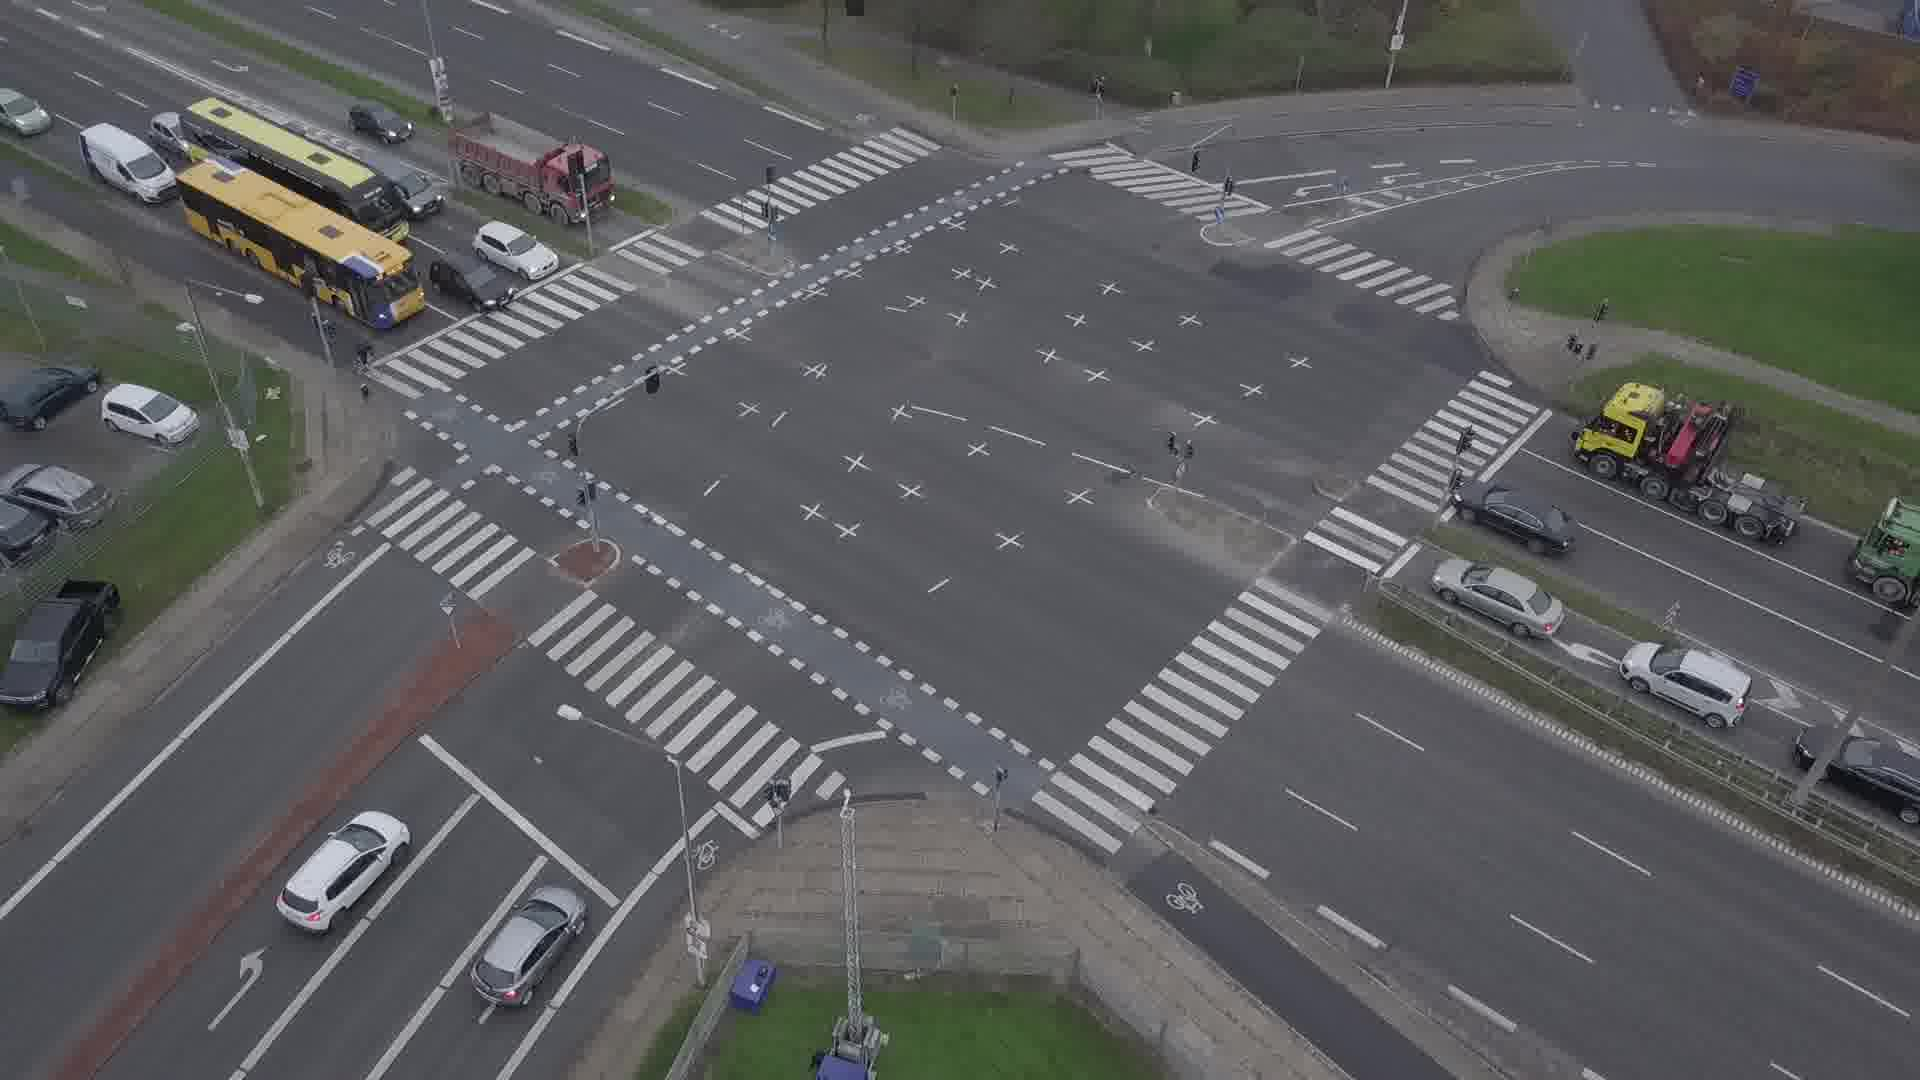bicycle: (349, 337, 377, 373)
bus: (175, 155, 425, 329), (189, 95, 412, 240)
car: (275, 811, 411, 930), (467, 886, 587, 1007), (1796, 726, 1920, 825), (1618, 640, 1755, 729), (1431, 557, 1567, 637), (1450, 479, 1580, 556), (428, 251, 516, 313), (472, 218, 559, 280), (362, 153, 441, 217), (348, 98, 414, 145), (0, 87, 51, 136), (147, 112, 184, 160), (263, 111, 307, 133)
lorry: (1572, 377, 1809, 543), (447, 108, 616, 225), (79, 123, 171, 204)
